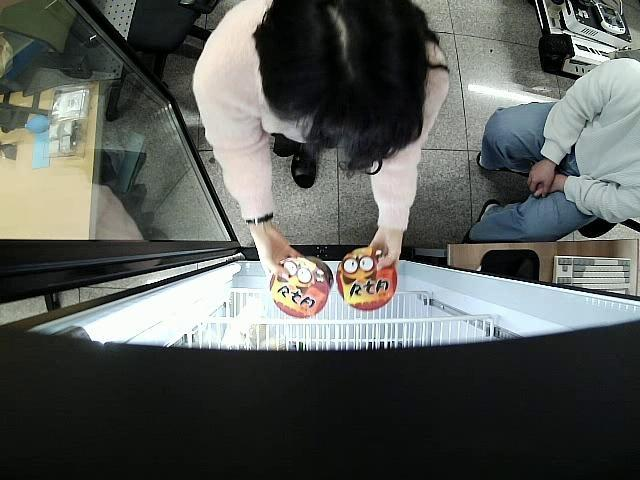05_nuguri_L: (268, 257, 334, 318), (338, 248, 398, 310)
